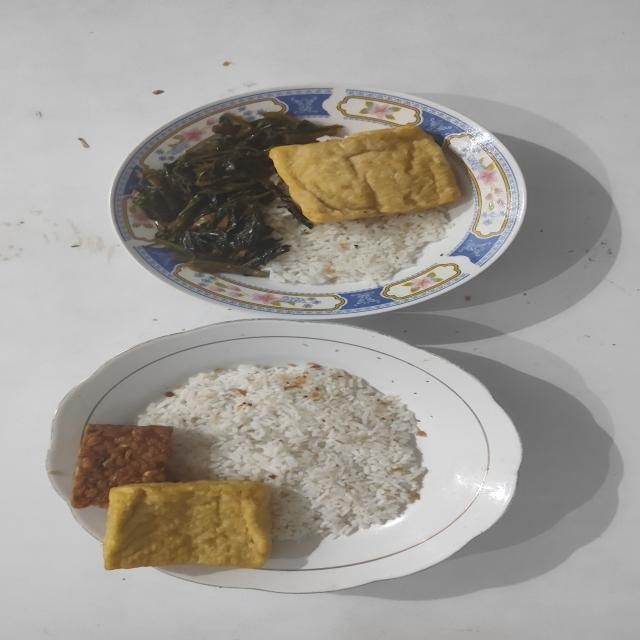nasi_putih: (140, 364, 425, 538), (266, 200, 454, 288)
tahu_goreng: (270, 125, 460, 222), (104, 480, 272, 570)
tempe_goreng: (70, 424, 172, 508)
tumis_kangkung: (134, 111, 342, 276)
